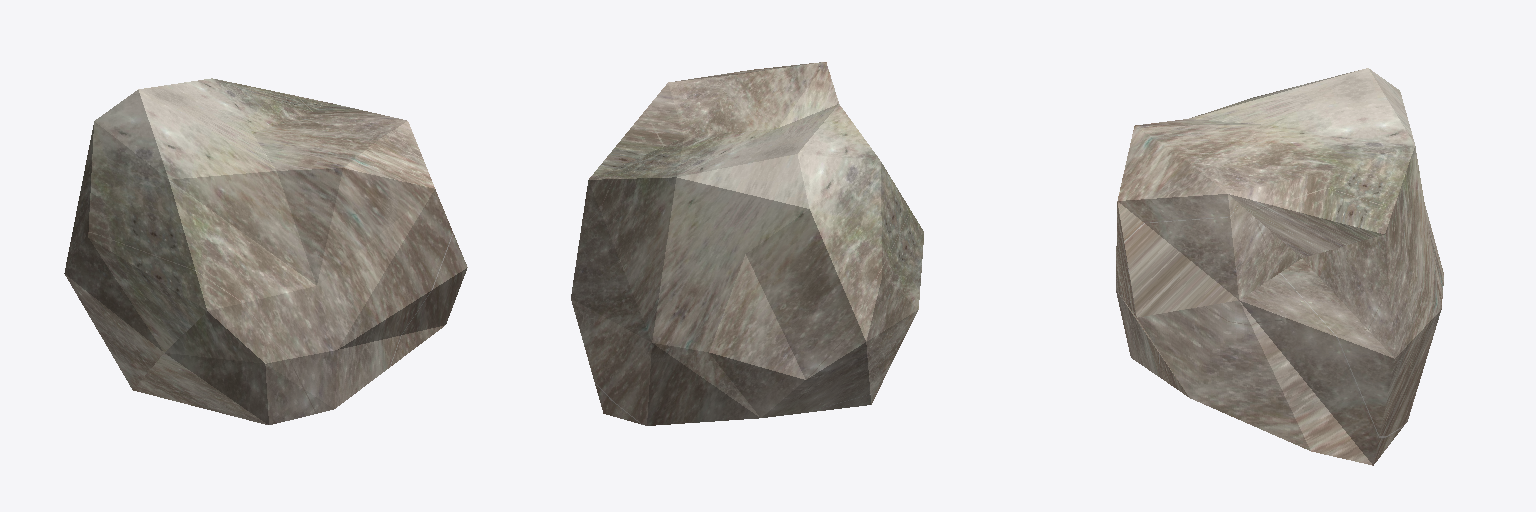
3 views of the same model, side by side, from view 1: azimuth 30°, elevation 25°; view 2: azimuth 150°, elevation 25°; view 3: azimuth 270°, elevation 25° (orthographic).
Size of the model in its own units: 2.26 by 2.26 by 2.22.
Materials: 1 (1 with a texture image).